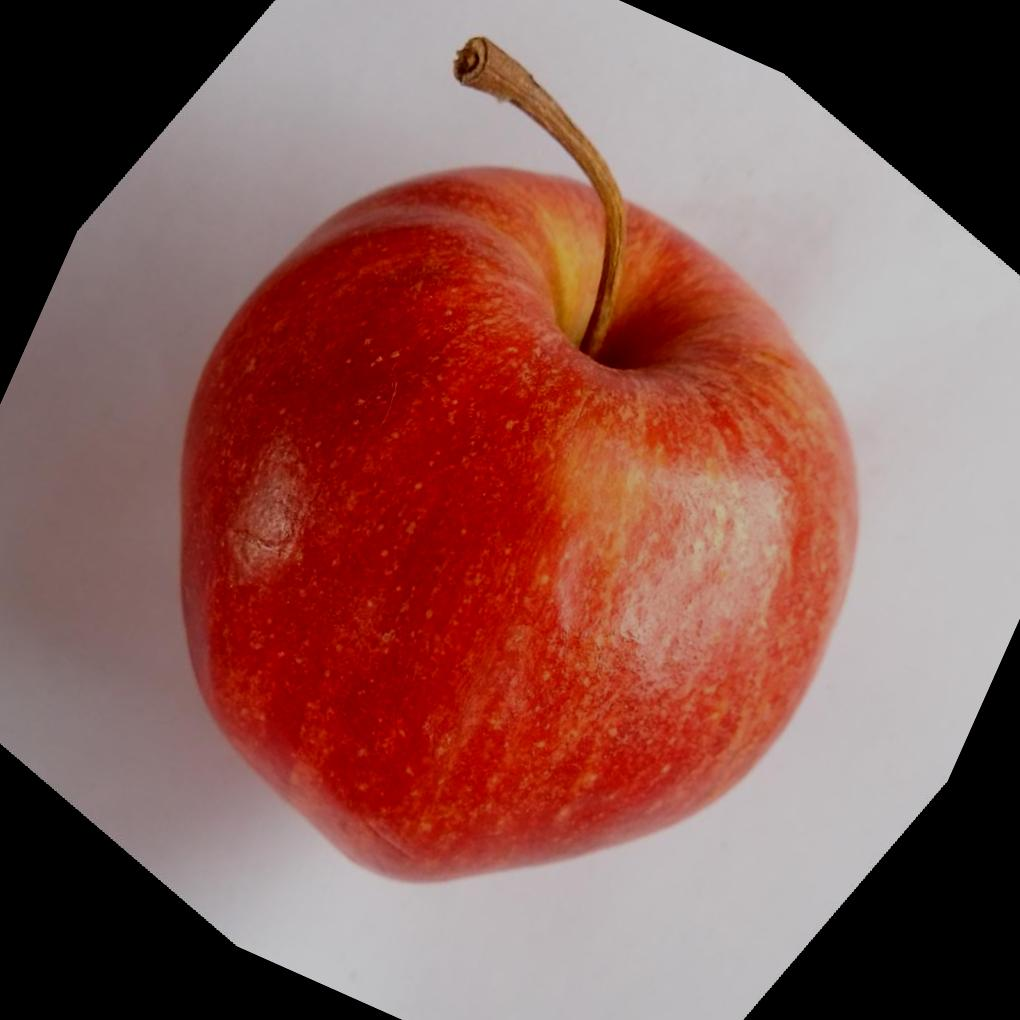FreshGuava: (173, 33, 859, 884)
